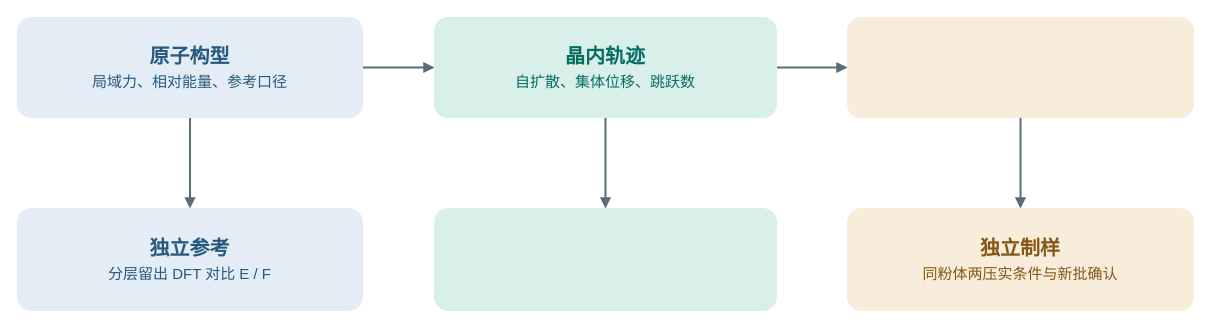
Image size: 1211x328. Some labels were removed from this diagram. The centre of each missing label's shape, as x and y in pixels:
真实压片 阻抗谱、厚度、面积、温度: (1020,67)
重复采样 多初态、区块误差、有限尺寸: (605,259)
